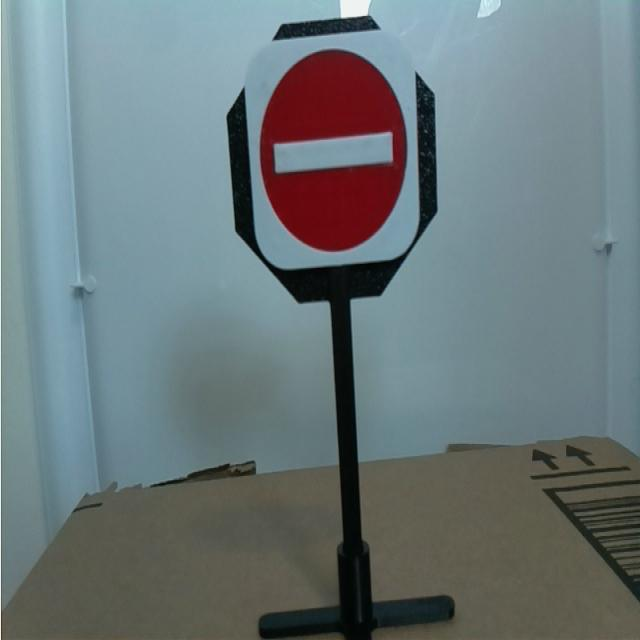sign_noentry: (247, 45, 428, 271)
